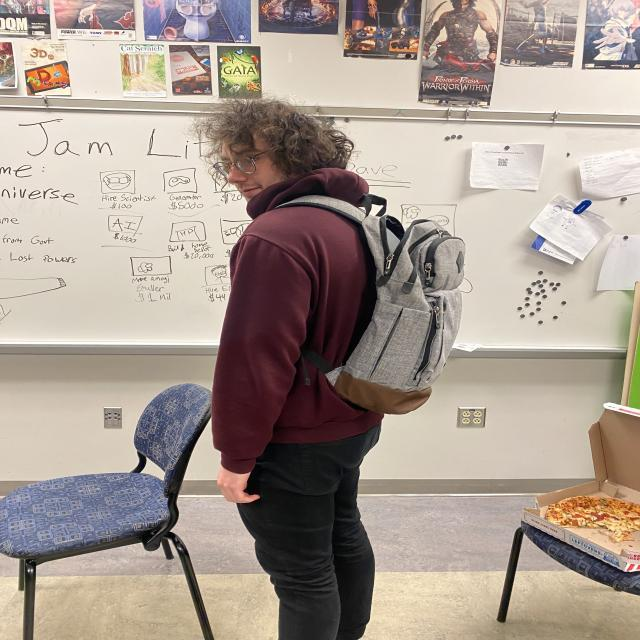Backpacks: (362, 198, 466, 420)
